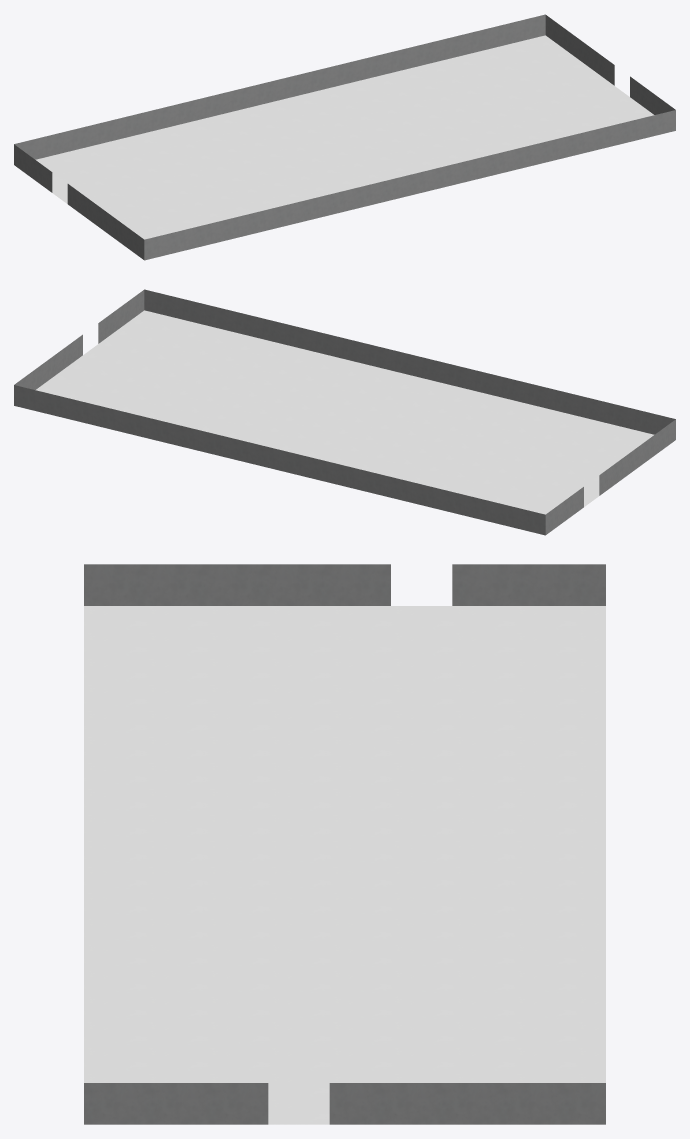
File: Block54.fbx
3 views of the same model, one above another, from view 1: azimuth 30°, elevation 25°; view 2: azimuth 150°, elevation 25°; view 3: azimuth 270°, elevation 25° (orthographic). The views are drawn at different scales.
Parts seen in each view (by area): view 1: Mat_Tile_Wall_05, Mat_Tile_Wall_04; view 2: Mat_Tile_Wall_05, Mat_Tile_Wall_04; view 3: Mat_Tile_Wall_05, Mat_Tile_Wall_04.
Boxes of the visible parts, x1,y1,x2,y2 form: Mat_Tile_Wall_05: (35, 35, 654, 239); Mat_Tile_Wall_04: (14, 14, 675, 260); Mat_Tile_Wall_05: (35, 310, 654, 514); Mat_Tile_Wall_04: (14, 289, 675, 535); Mat_Tile_Wall_05: (84, 606, 605, 1124); Mat_Tile_Wall_04: (84, 564, 605, 1124).
Bounding box in the file's own units: 80 × 3 × 34.
2 materials, 2 textured.
